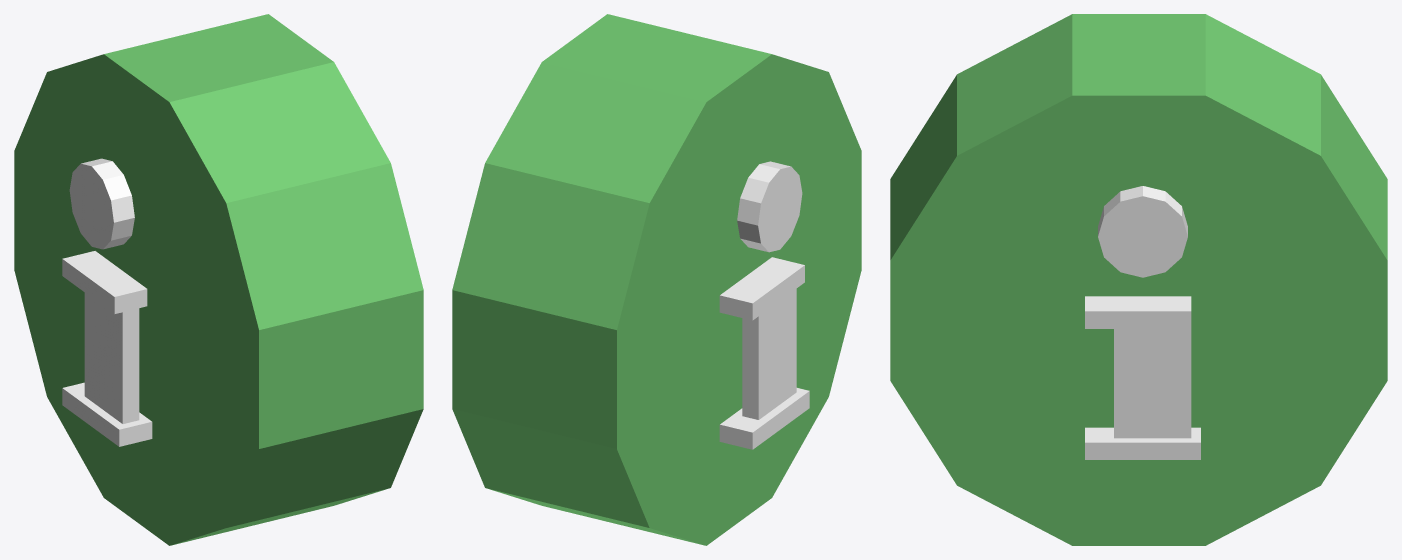
Rendered from info-button.glb.
3 renders of one model, left to right at view 1: azimuth 30°, elevation 25°; view 2: azimuth 150°, elevation 25°; view 3: azimuth 270°, elevation 25°, orthographic.
Parts seen in each view (by area): view 1: group1236340163, group1333965752; view 2: group1236340163, group1333965752; view 3: group1236340163, group1771391850.
Part boxes in pixels (x1=…): group1236340163: x1=14, y1=14, x2=423, y2=545; group1333965752: x1=62, y1=158, x2=152, y2=446; group1236340163: x1=452, y1=14, x2=861, y2=545; group1333965752: x1=719, y1=161, x2=809, y2=449; group1236340163: x1=890, y1=14, x2=1387, y2=545; group1771391850: x1=1085, y1=186, x2=1200, y2=459.
Bounding box in the file's own units: 0.2175 × 0.3864 × 0.3864.
